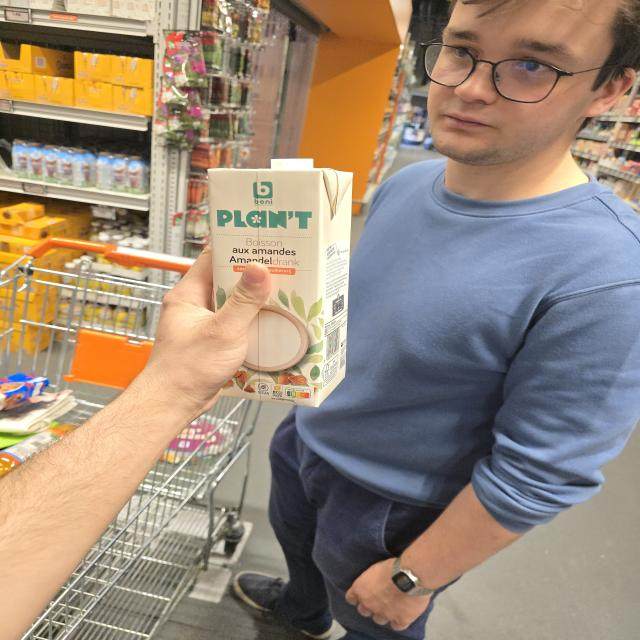Milk: (209, 159, 352, 409)
